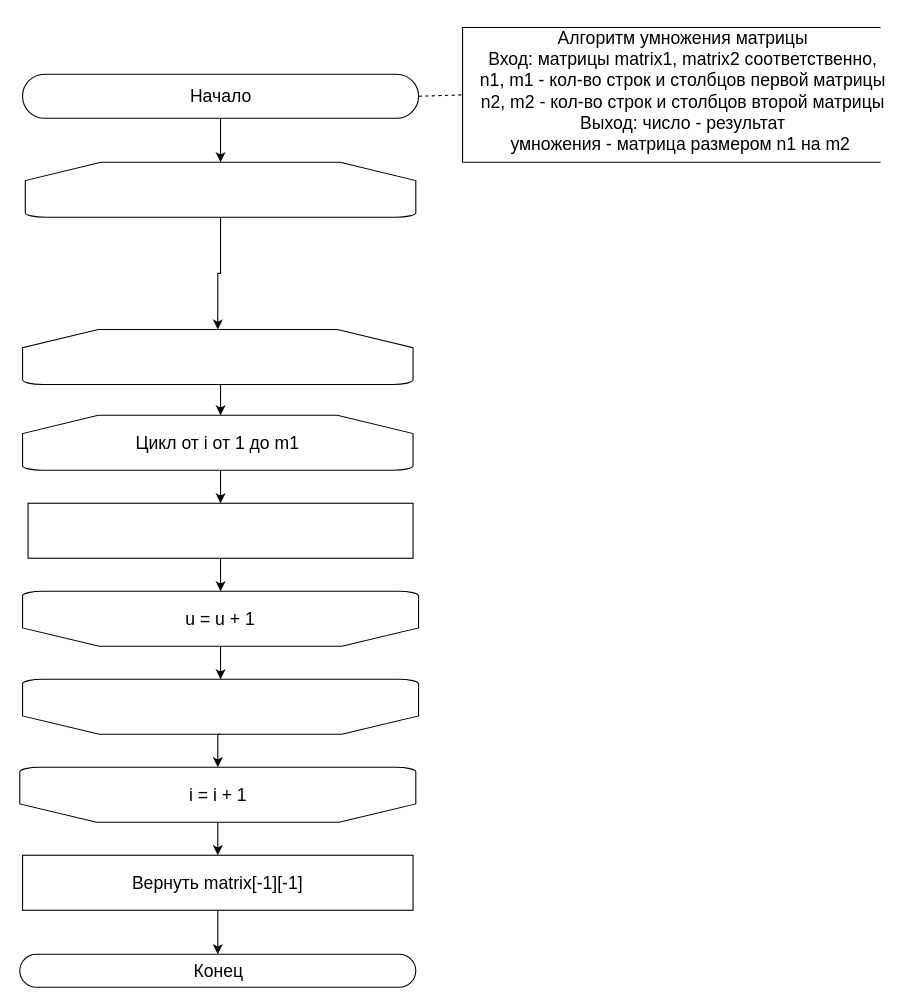
This 921x1007 diagram has some shape labels left out. Here are the shapes that lost their labels. From the top down, the centre of each, then its label:
At [220,189]: "Цикл от i от 0 до n1".
At [217,356]: "Цикл от i от 0 до m2".
At [220,530]: "res[i][j] += matrix1[i][u] * matrix2[u][j]".
At [220,706]: "j = j + 1".
